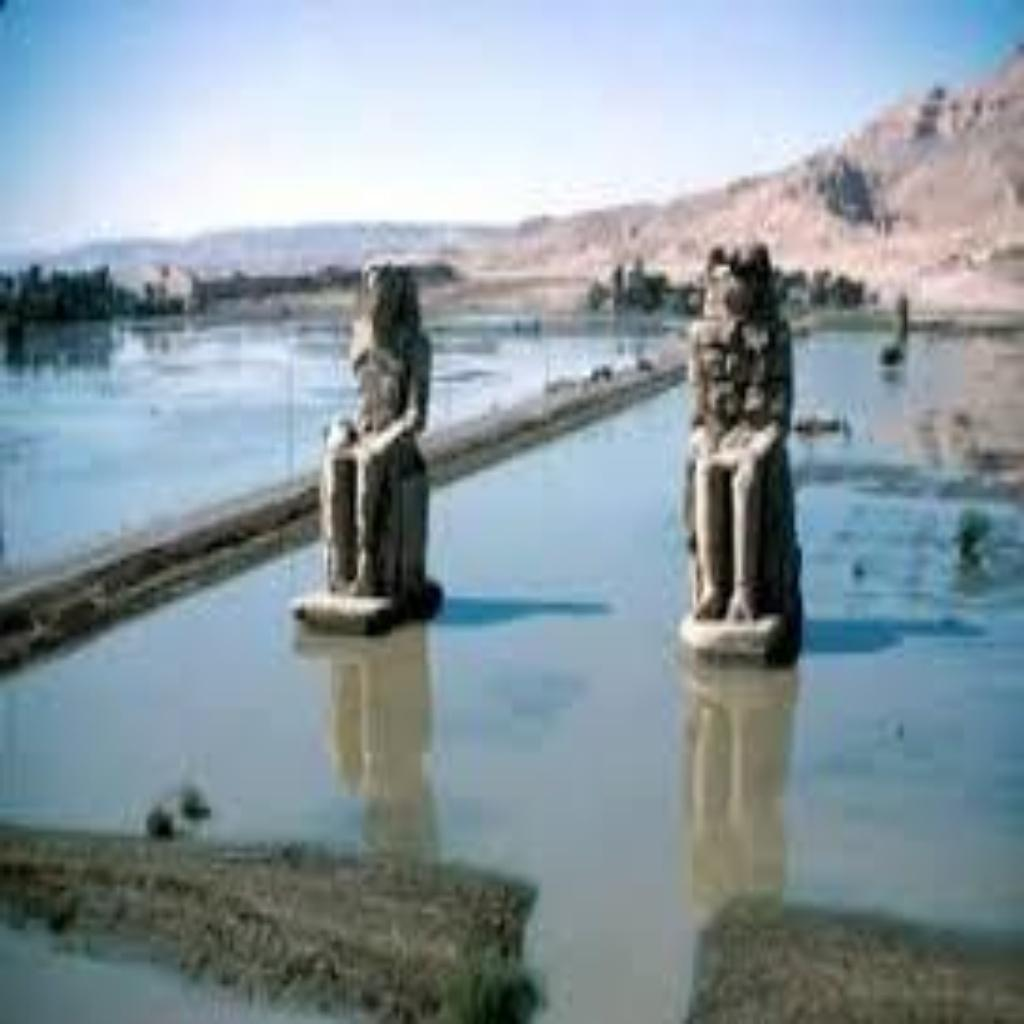Colossoi of Memnon: (286, 250, 444, 636), (670, 227, 806, 664)
